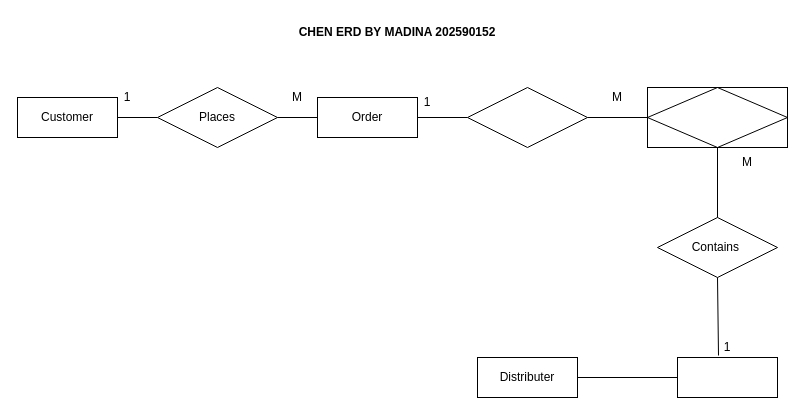
This 805x415 diagram has some shape labels left out. Here are the shapes that lost their labels. From the top down, the centre of each, then its label:
At point 527,117: "Has".
At point 717,117: "Order line".
At point 727,377: "Product".
